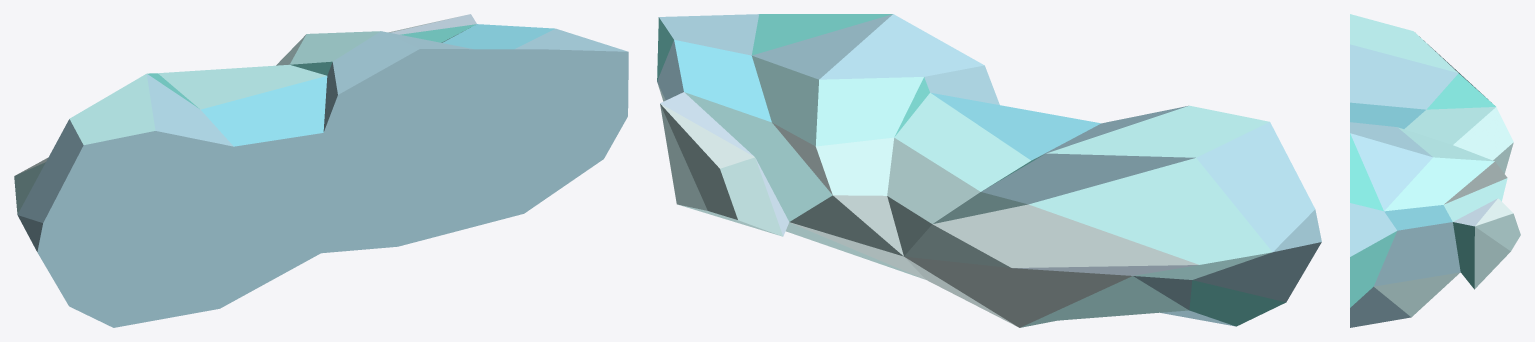
The model's file is winter_mountain_5.fbx.
3 renders of one model, left to right at view 1: azimuth 30°, elevation 25°; view 2: azimuth 150°, elevation 25°; view 3: azimuth 270°, elevation 25°, orthographic. The views are drawn at different scales.
Parts seen in each view (by area): view 1: winter_mountain_5; view 2: winter_mountain_5; view 3: winter_mountain_5.
Part boxes in pixels (bbox=[...]): winter_mountain_5: bbox=[14, 14, 628, 327]; winter_mountain_5: bbox=[657, 14, 1321, 327]; winter_mountain_5: bbox=[1350, 14, 1520, 327].
Size of the model in its own units: 450 by 153 by 141.
